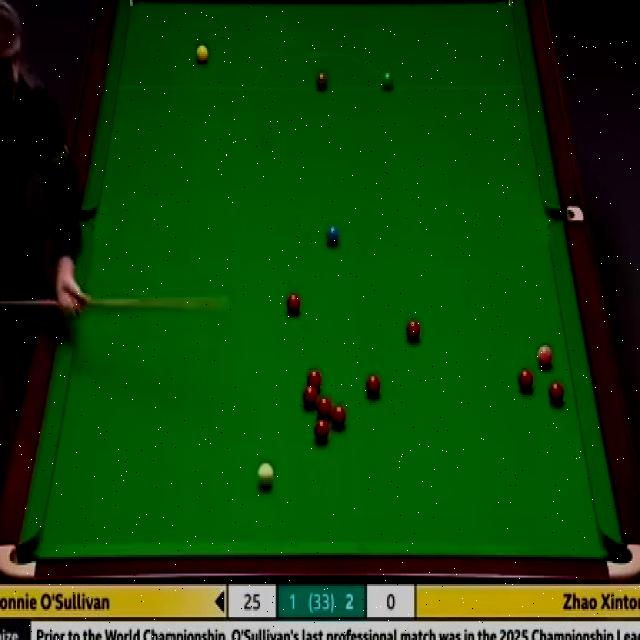blue-ball: (327, 223, 340, 247)
brown-ball: (314, 72, 330, 90)
green-ball: (380, 69, 395, 92)
pink-ball: (536, 344, 553, 367)
red-ball: (366, 372, 383, 400), (548, 381, 566, 405), (517, 367, 533, 393), (331, 404, 347, 428), (285, 294, 302, 316), (406, 318, 421, 342), (317, 399, 333, 421), (303, 386, 317, 411), (306, 370, 321, 392), (314, 419, 328, 442)
white-ball: (258, 464, 274, 488)
yellow-ball: (195, 43, 209, 66)
